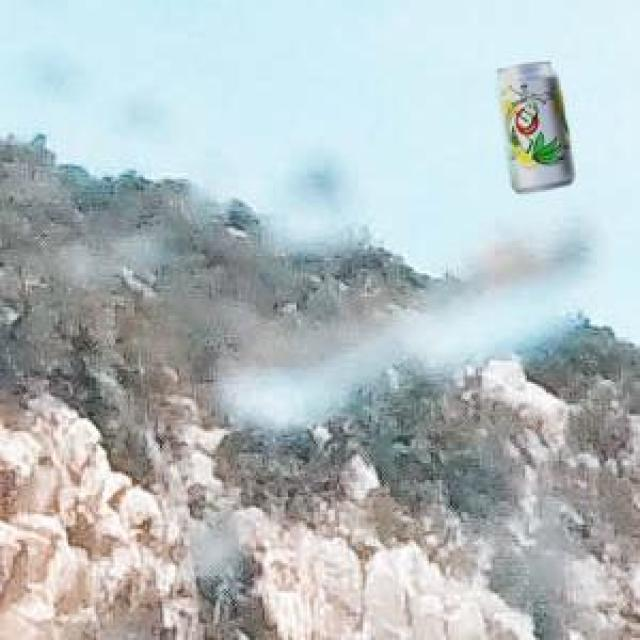logam: (496, 59, 571, 189)
